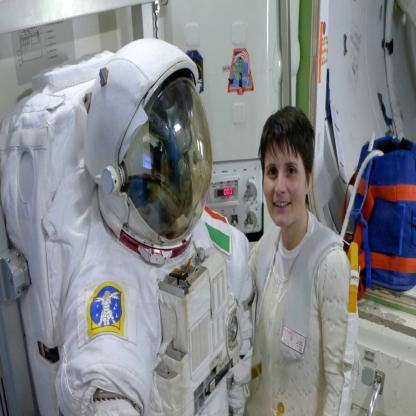Helmet: (81, 37, 214, 265)
